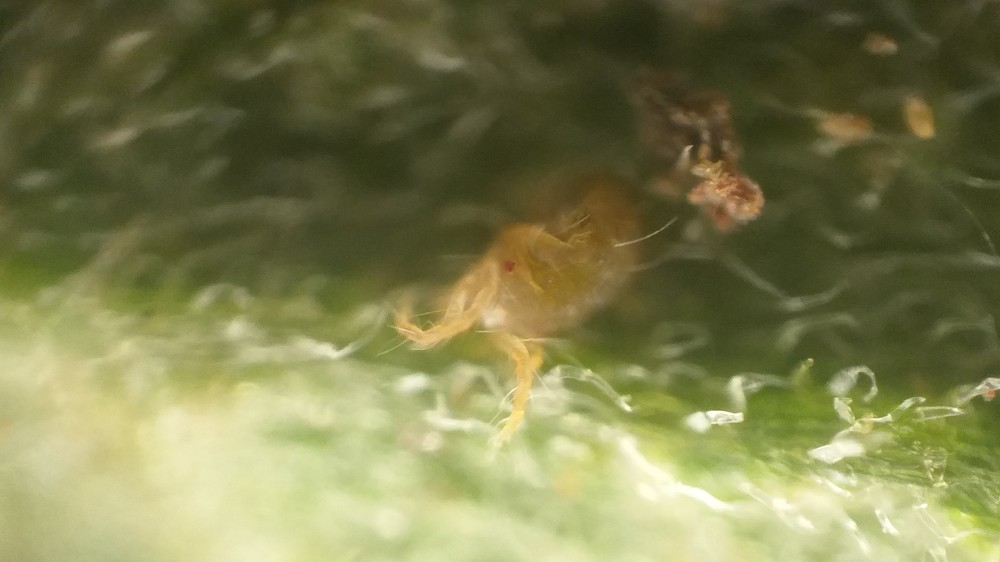Aracnido Rojo: (381, 159, 678, 451)
